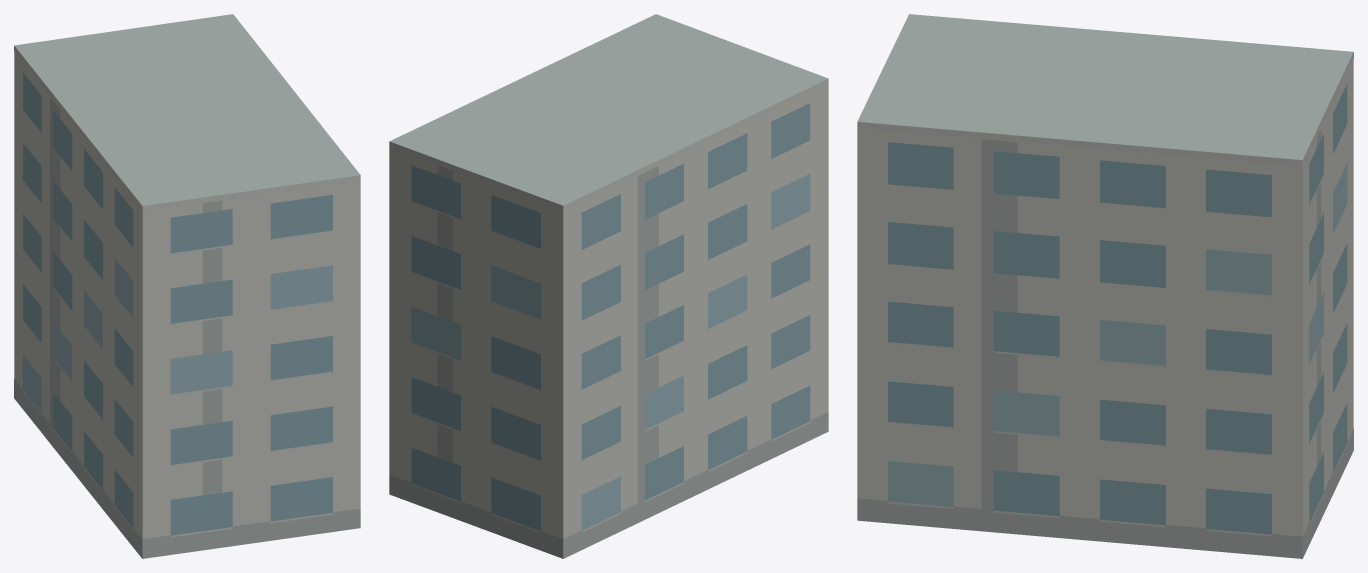
The model's file is survey-upis-32881835.glb.
3 views of the same model, side by side, from view 1: azimuth 30°, elevation 25°; view 2: azimuth 150°, elevation 25°; view 3: azimuth 270°, elevation 25° (orthographic). The views are drawn at different scales.
Visible parts, largest first — view 1: survey-upis-32881835.tmp; view 2: survey-upis-32881835.tmp; view 3: survey-upis-32881835.tmp.
Boxes of the visible parts, x1=… form: survey-upis-32881835.tmp: x1=14, y1=14, x2=360, y2=558; survey-upis-32881835.tmp: x1=389, y1=14, x2=828, y2=558; survey-upis-32881835.tmp: x1=857, y1=14, x2=1353, y2=558.
Bounding box in the file's own units: 11.32 × 14.4 × 16.26.
